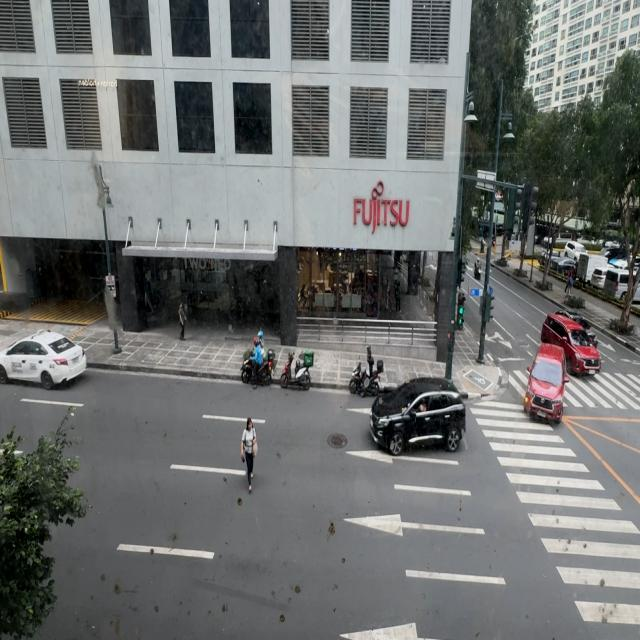jaywalking: (240, 418, 258, 493)
